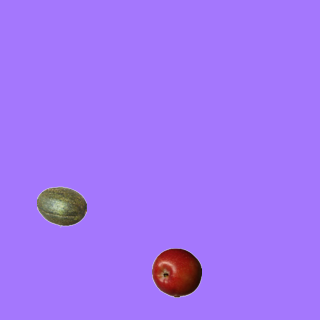Apple Braeburn: (151, 247, 201, 297)
Melon Piel de Sapo: (36, 181, 86, 231)
